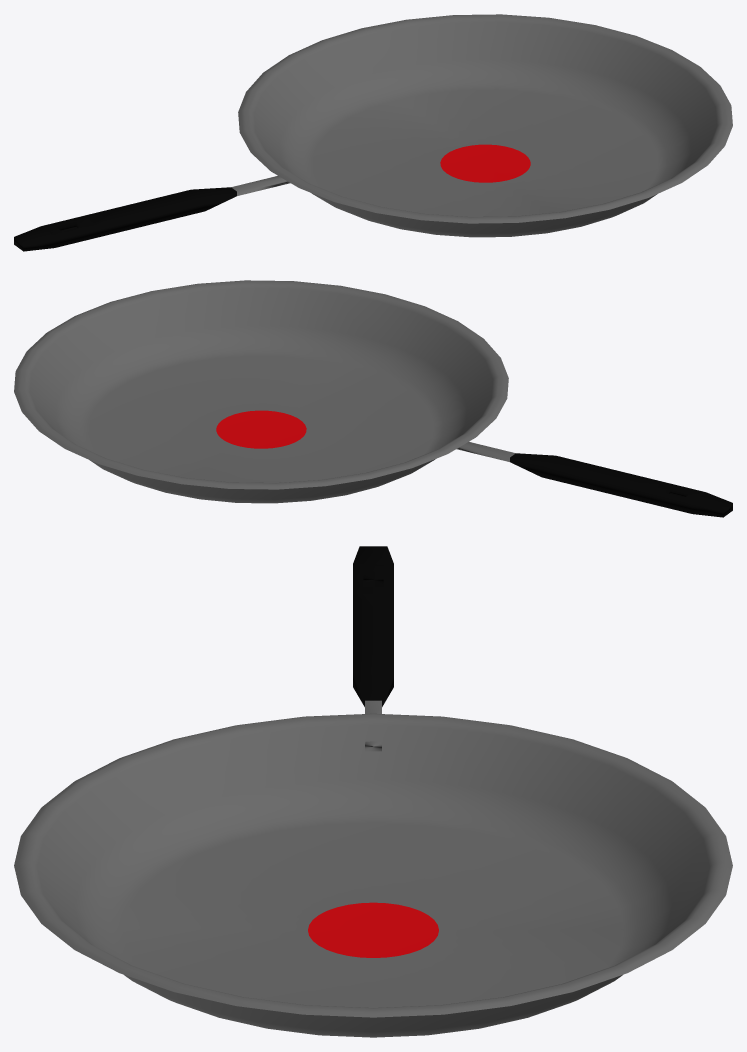
The model's file is Pan.fbx.
The picture shows the model from 3 angles, top to bottom: view 1: azimuth 30°, elevation 25°; view 2: azimuth 150°, elevation 25°; view 3: azimuth 270°, elevation 25°; orthographic projection. The views are drawn at different scales.
Visible parts, largest first — view 1: Pan; view 2: Pan; view 3: Pan.
Boxes of the visible parts, left/top/right/bottom form: Pan: left=14, top=14, right=732, bottom=251; Pan: left=14, top=280, right=732, bottom=517; Pan: left=14, top=546, right=732, bottom=1037.
Size of the model in its own units: 470 by 30.88 by 296.
